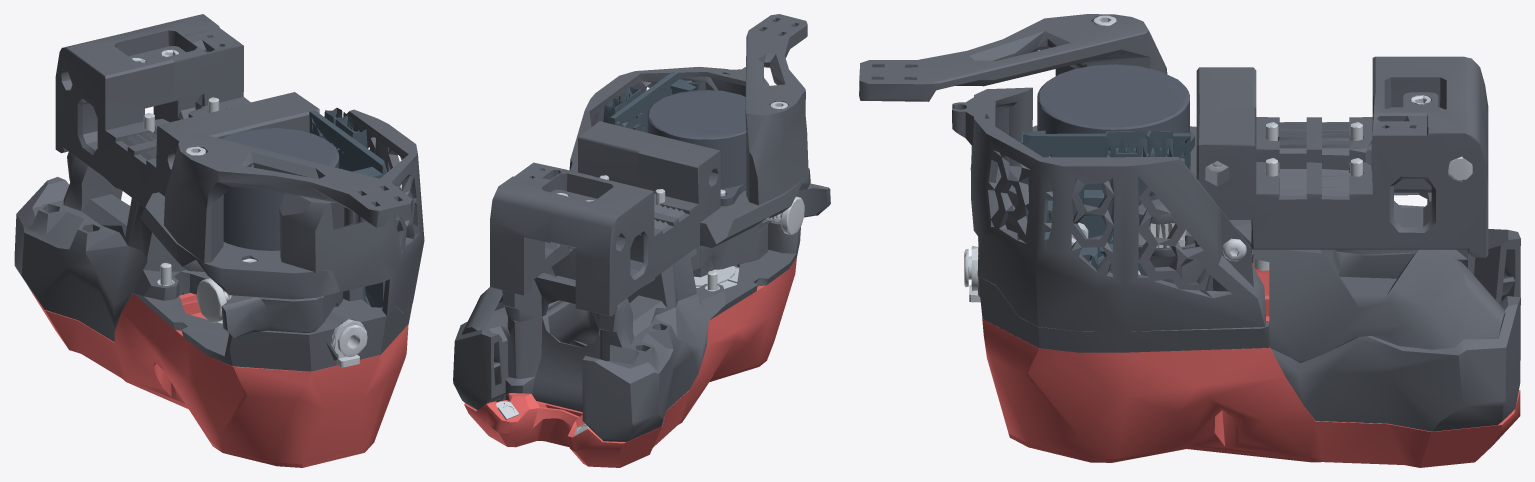
The picture shows the model from 3 angles, left to right: view 1: azimuth 30°, elevation 25°; view 2: azimuth 150°, elevation 25°; view 3: azimuth 270°, elevation 25°; orthographic projection. The views are drawn at different scales.
Visible parts, largest first — view 1: sb_shroud_55, sb_body_59, sb_body_168, sb_body_171, sb_body, sb_body_165, sb_body_58, sb_body_169, cw2_motor_107, sb_body_57, sb_body_162, nitehawk_pcb_120 (+5 smaller); view 2: sb_body, sb_body_59, sb_shroud_55, sb_body_58, sb_body_168, sb_body_57, cw2_motor_107, sb_body_171, sb_body_165, sb_body_169, sb_body_161, nitehawk_pcb_120 (+5 smaller); view 3: sb_body_171, sb_shroud_55, sb_body_58, sb_body, sb_body_57, sb_body_168, sb_body_59, cw2_motor_107, sb_body_165, nitehawk_pcb_120, sb_shroud, sb_body_169 (+3 smaller).
Boxes of the visible parts, bbox=[...] form: sb_shroud_55: bbox=[28, 286, 408, 464]; sb_body_59: bbox=[55, 31, 251, 206]; sb_body_168: bbox=[164, 132, 412, 263]; sb_body_171: bbox=[279, 109, 424, 315]; sb_body: bbox=[14, 177, 190, 341]; sb_body_165: bbox=[132, 269, 412, 371]; sb_body_58: bbox=[134, 14, 319, 132]; sb_body_169: bbox=[140, 192, 339, 299]; cw2_motor_107: bbox=[221, 128, 339, 250]; sb_body_57: bbox=[63, 152, 171, 261]; sb_body_162: bbox=[221, 290, 342, 338]; nitehawk_pcb_120: bbox=[309, 110, 387, 307]; sb_body: bbox=[453, 294, 708, 442]; sb_body_59: bbox=[550, 136, 720, 316]; sb_shroud_55: bbox=[464, 257, 796, 465]; sb_body_58: bbox=[490, 121, 659, 295]; sb_body_168: bbox=[745, 14, 808, 205]; sb_body_57: bbox=[461, 248, 696, 347]; cw2_motor_107: bbox=[647, 90, 746, 206]; sb_body_171: bbox=[569, 66, 769, 172]; sb_body_165: bbox=[696, 220, 800, 320]; sb_body_169: bbox=[700, 168, 810, 247]; sb_body_161: bbox=[693, 224, 768, 277]; nitehawk_pcb_120: bbox=[610, 72, 678, 132]; sb_body_171: bbox=[971, 87, 1266, 331]; sb_shroud_55: bbox=[982, 263, 1520, 464]; sb_body_58: bbox=[1196, 94, 1488, 257]; sb_body: bbox=[1269, 229, 1520, 431]; sb_body_57: bbox=[1253, 192, 1505, 362]; sb_body_168: bbox=[859, 14, 1167, 101]; sb_body_59: bbox=[1196, 56, 1488, 192]; cw2_motor_107: bbox=[1037, 64, 1194, 200]; sb_body_165: bbox=[978, 234, 1269, 352]; nitehawk_pcb_120: bbox=[1023, 133, 1190, 276]; sb_shroud: bbox=[1008, 433, 1494, 467]; sb_body_169: bbox=[970, 125, 1251, 252].
Bounding box in the file's own units: 0.0711 × 0.0901 × 0.1559.
